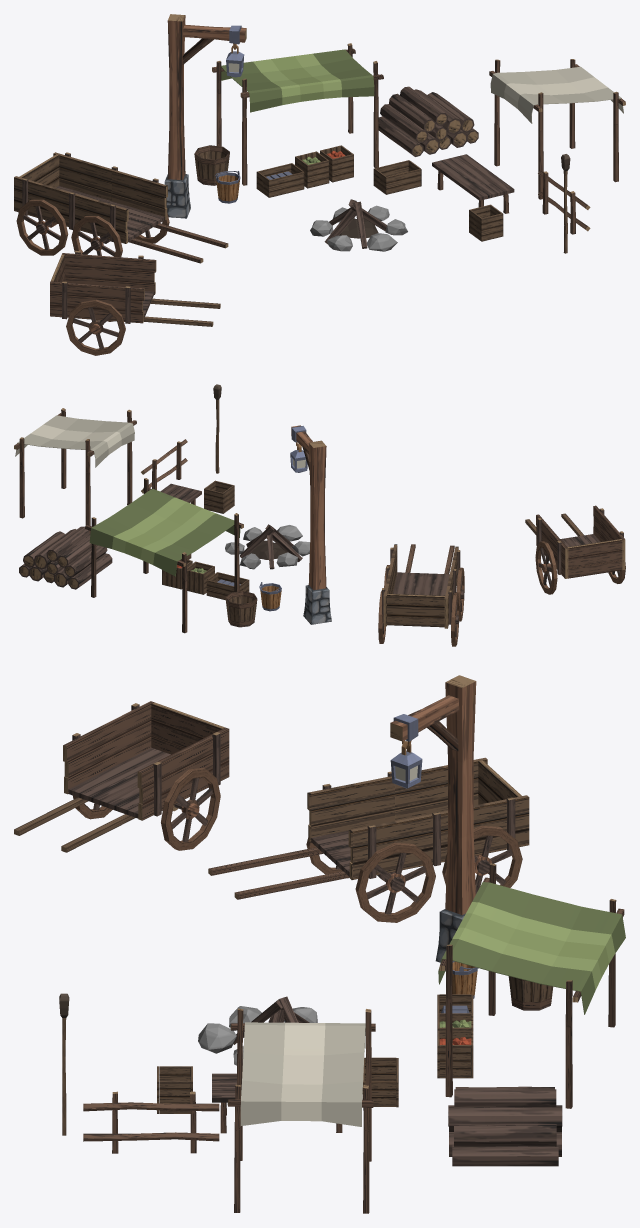
The model's file is props_market_example_fix_1.fbx.
3 renders of one model, top to bottom at view 1: azimuth 30°, elevation 25°; view 2: azimuth 150°, elevation 25°; view 3: azimuth 270°, elevation 25°, orthographic. The views are drawn at different scales.
Visible parts, largest first — view 1: props_cart_02, props_marketstall_B, props_cart_01, props_marketstall_A, props_lamppost_01, props_woodpile_01, props_campfire_01, props_marketTable, props_cartwheel_01, props_cartwheel_02_A.001, props_cartwheel_02_A, props_emptycrate_B (+7 smaller); view 2: props_marketstall_B, props_marketstall_A, props_cart_02, props_lamppost_01, props_cart_01, props_woodpile_01, props_campfire_01, props_cartwheel_01, props_bucket, props_emptycrate_A, props_ironcrate, props_fence_01 (+7 smaller); view 3: props_cart_02, props_marketstall_B, props_marketstall_A, props_cart_01, props_lamppost_01, props_woodpile_01, props_cartwheel_02_A, props_cartwheel_01, props_fence_01, props_campfire_01, props_cartwheel_02_A.001, props_applecrate_A (+6 smaller).
Part boxes in pixels (x1,y1,x2,y2): props_cart_02: (14, 152, 228, 263); props_marketstall_B: (212, 43, 383, 185); props_cart_01: (50, 251, 220, 326); props_marketstall_A: (489, 59, 625, 199); props_lamppost_01: (164, 14, 246, 218); props_woodpile_01: (378, 86, 478, 156); props_campfire_01: (310, 199, 407, 251); props_marketTable: (432, 154, 514, 213); props_cartwheel_01: (66, 299, 125, 355); props_cartwheel_02_A.001: (16, 199, 68, 255); props_cartwheel_02_A: (71, 213, 169, 257); props_emptycrate_B: (373, 160, 421, 194); props_marketstall_B: (85, 478, 243, 633); props_marketstall_A: (14, 408, 136, 533); props_cart_02: (382, 544, 460, 628); props_lamppost_01: (290, 425, 331, 624); props_cart_01: (525, 505, 625, 578); props_woodpile_01: (19, 526, 112, 589); props_campfire_01: (225, 524, 310, 569); props_cartwheel_01: (535, 541, 625, 594); props_bucket: (225, 591, 257, 627); props_emptycrate_A: (204, 480, 234, 513); props_ironcrate: (206, 572, 249, 599); props_fence_01: (141, 439, 187, 493); props_cart_02: (208, 757, 529, 899); props_marketstall_B: (438, 863, 625, 1108); props_marketstall_A: (227, 1008, 375, 1213); props_cart_01: (14, 701, 229, 852); props_lamppost_01: (390, 675, 476, 962); props_woodpile_01: (448, 1086, 562, 1166); props_cartwheel_02_A: (306, 838, 435, 922); props_cartwheel_01: (73, 767, 220, 850); props_fence_01: (83, 1091, 219, 1153); props_campfire_01: (198, 996, 317, 1065); props_cartwheel_02_A.001: (442, 825, 522, 893); props_applecrate_A: (437, 1030, 473, 1078).
Size of the model in its own units: 14.68 by 4.62 by 8.96.
Materials: 1 (1 with a texture image).
